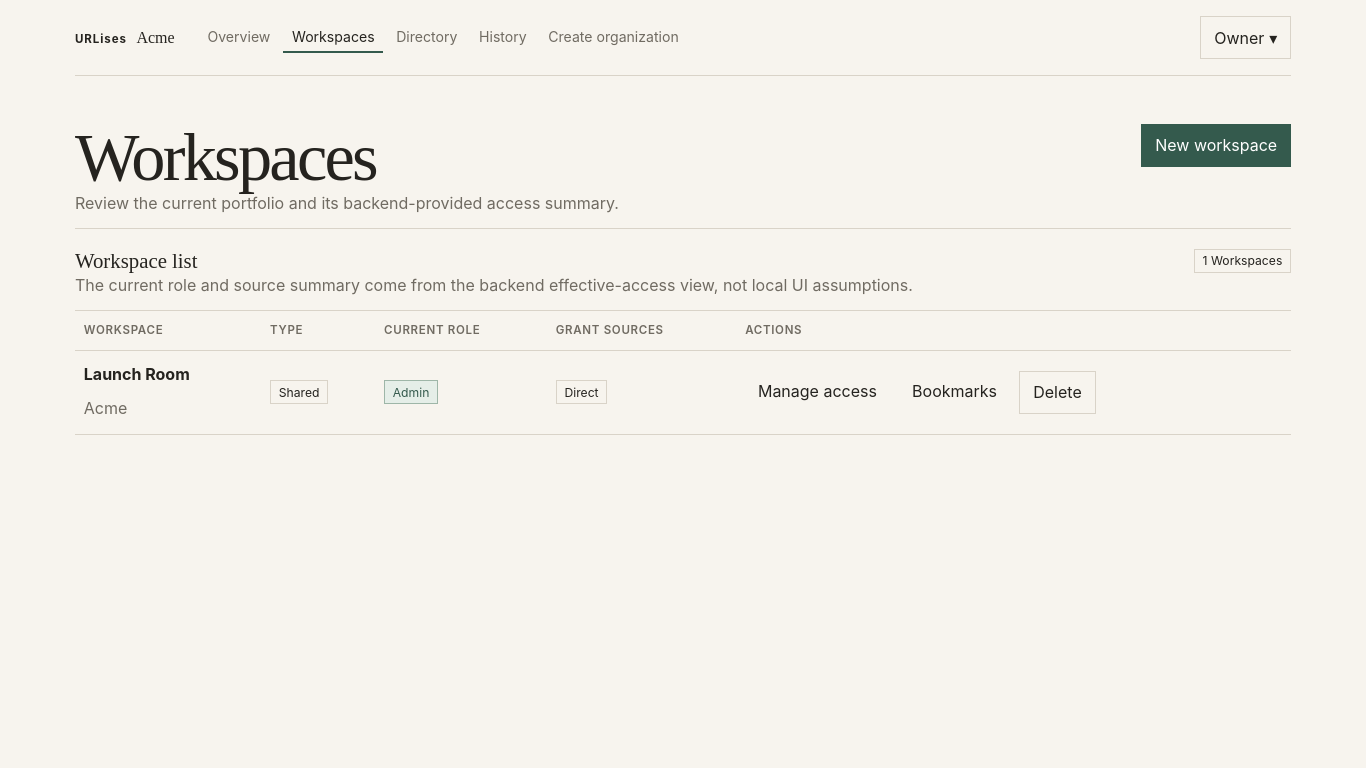
Test: workspaces page › shows the rejection notice and resets busy/panel state without removing the row on backend rejection
Click the button with aria-label "delete launch room" at (1057, 392), box 1019,371 -> 1096,414
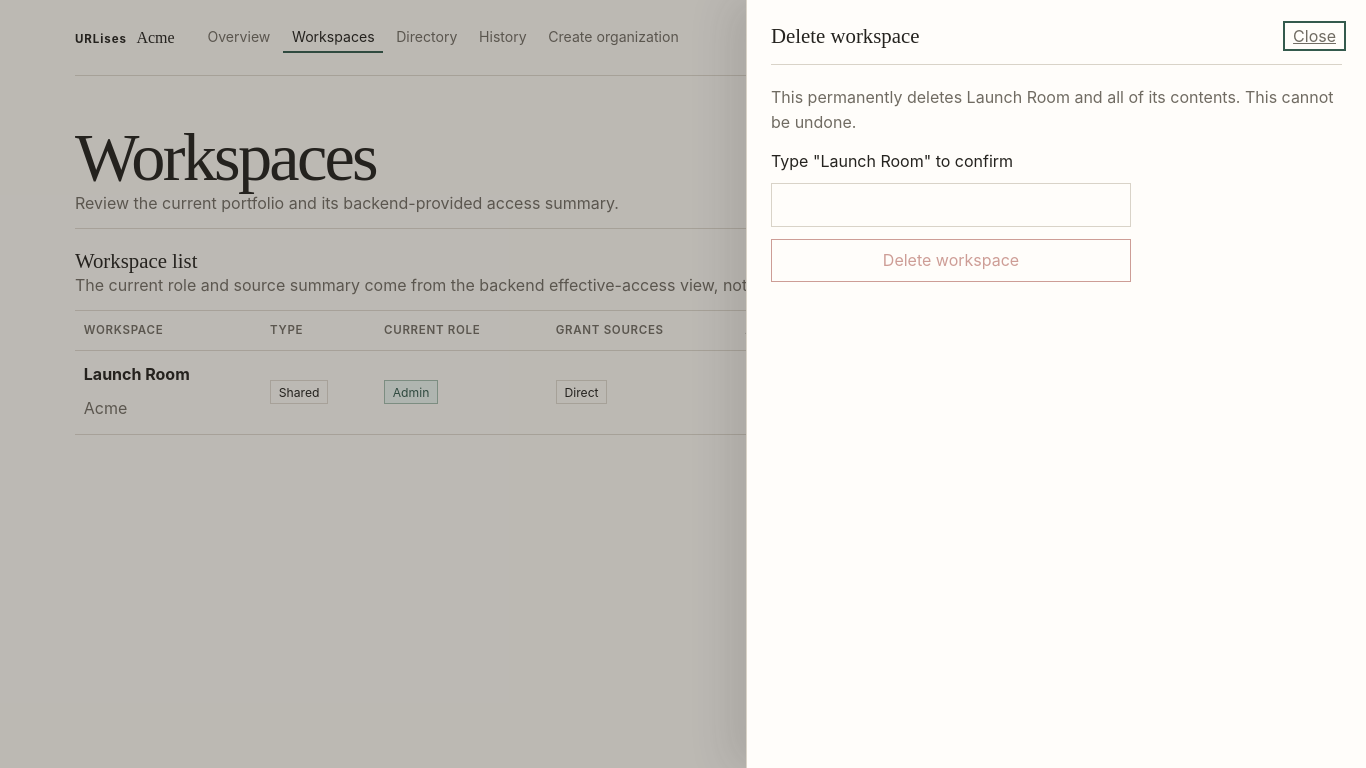
Type "Launch Room" into the field at (951, 205), box 771,183 -> 1131,227
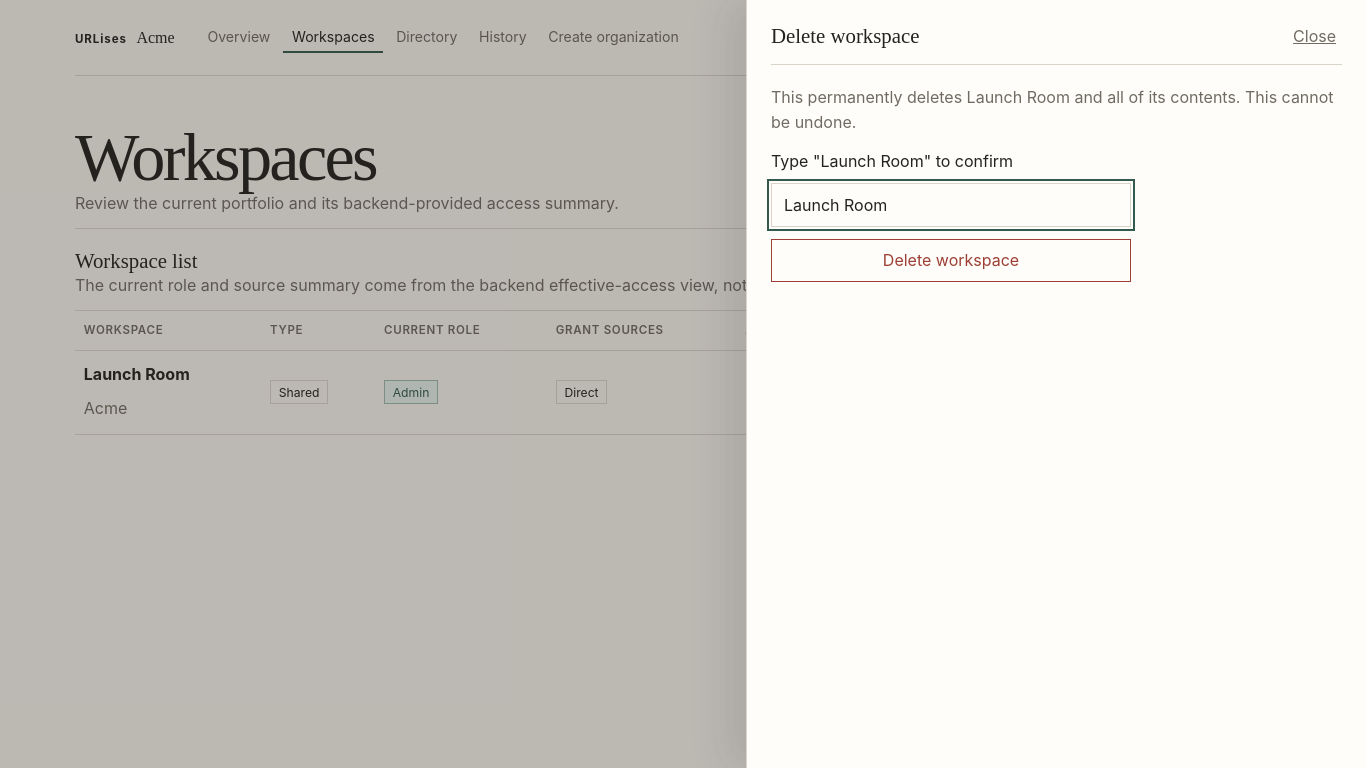
Click the button "Delete workspace" at (951, 260), box 771,239 -> 1131,282
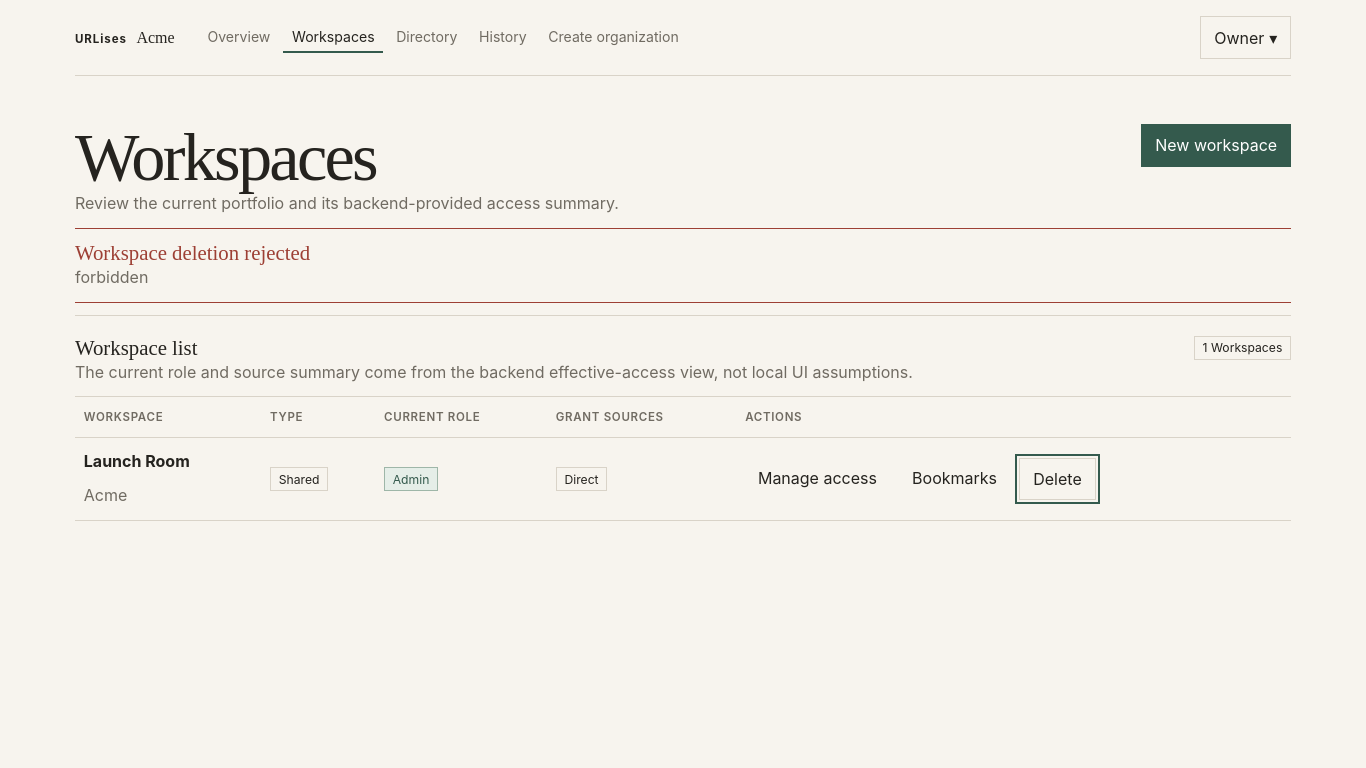
Expected: the text "Launch Room" is shown, 84,451 -> 190,471
Result: the heading "Workspace deletion rejected" is shown at 75,241 -> 310,264
Result: the field is gone
